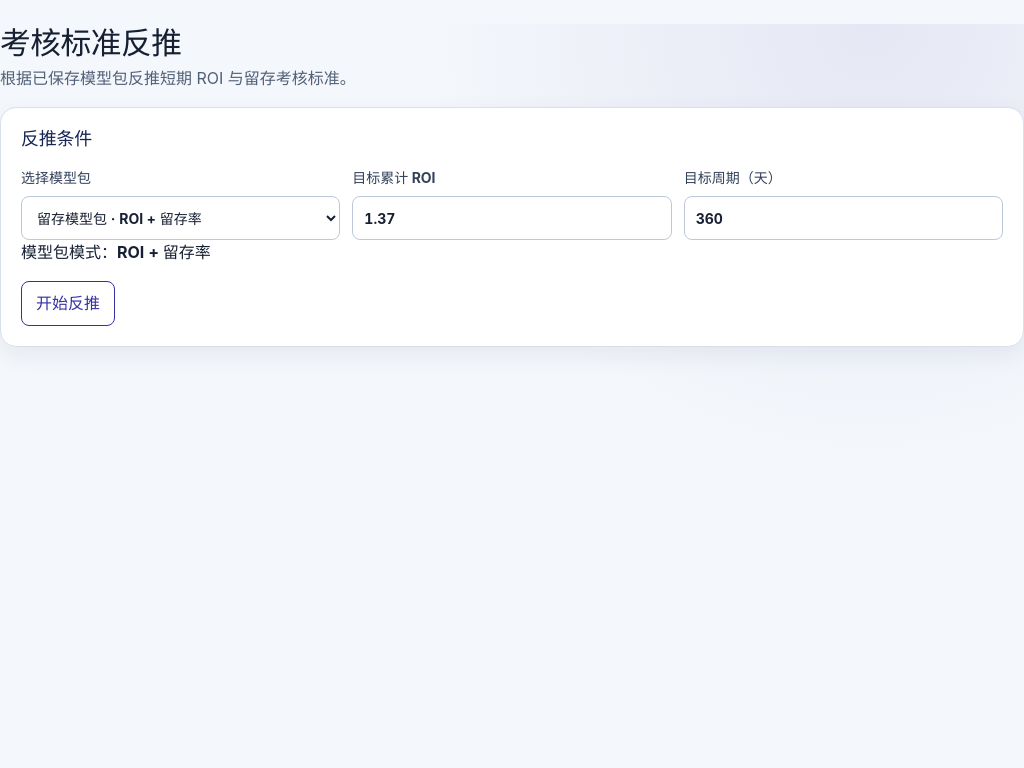
Scenario: assessment standards cards › shows ROI baseline, final recommendation and error range with business labels
Click the button "开始反推" at {"x": 68, "y": 304}, box left=21, top=281, right=115, bottom=326
(page scrolled)
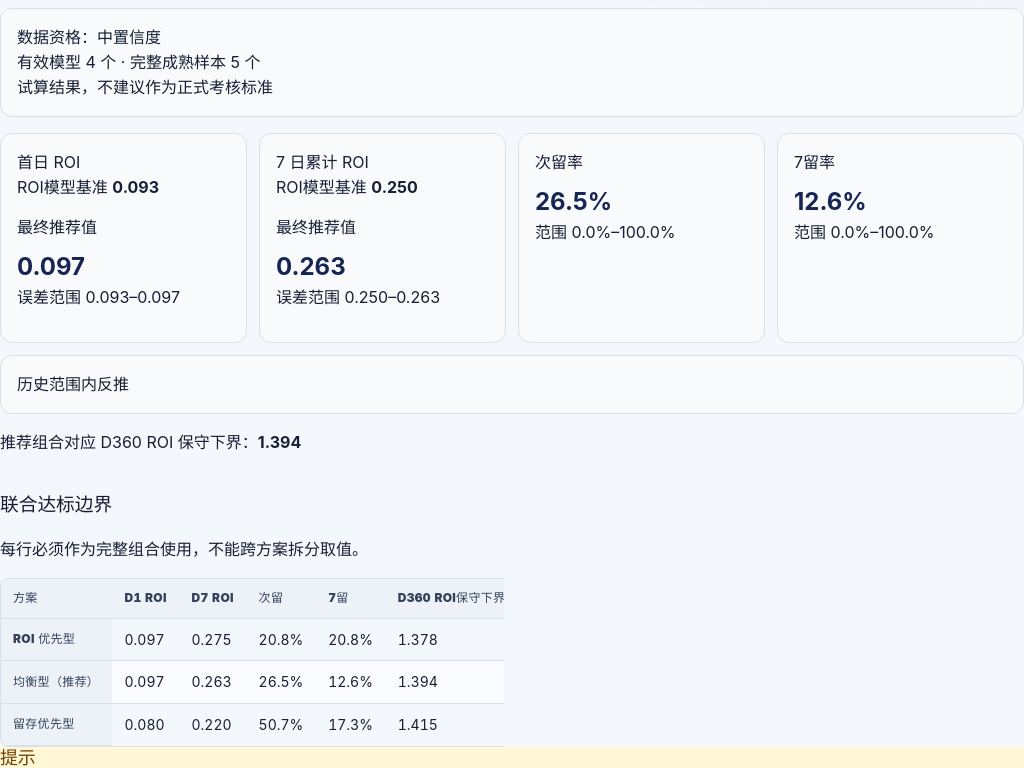
Check: the text "首日 ROI" is shown, box left=17, top=152, right=80, bottom=172
Check: the text "7 日累计 ROI" is shown, box left=276, top=152, right=369, bottom=172
Check: the text "ROI模型基准 0.093" is shown 2 times, box left=17, top=177, right=159, bottom=197; left=276, top=177, right=418, bottom=197
